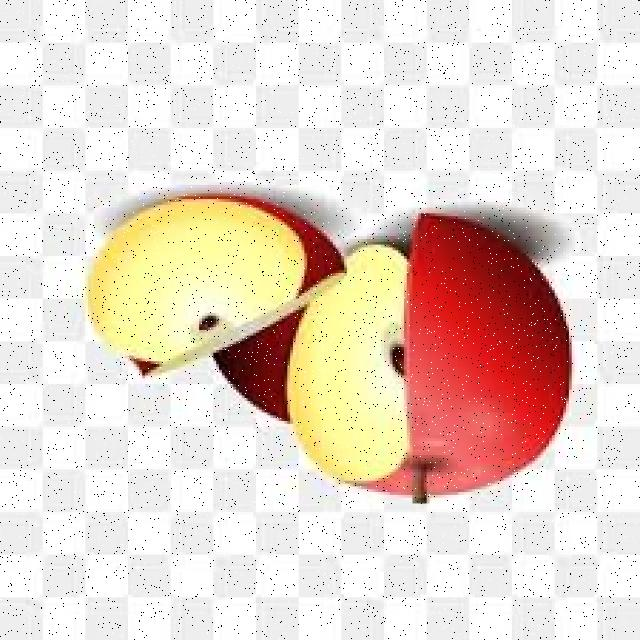Apple: (286, 218, 566, 502), (85, 187, 343, 381)
